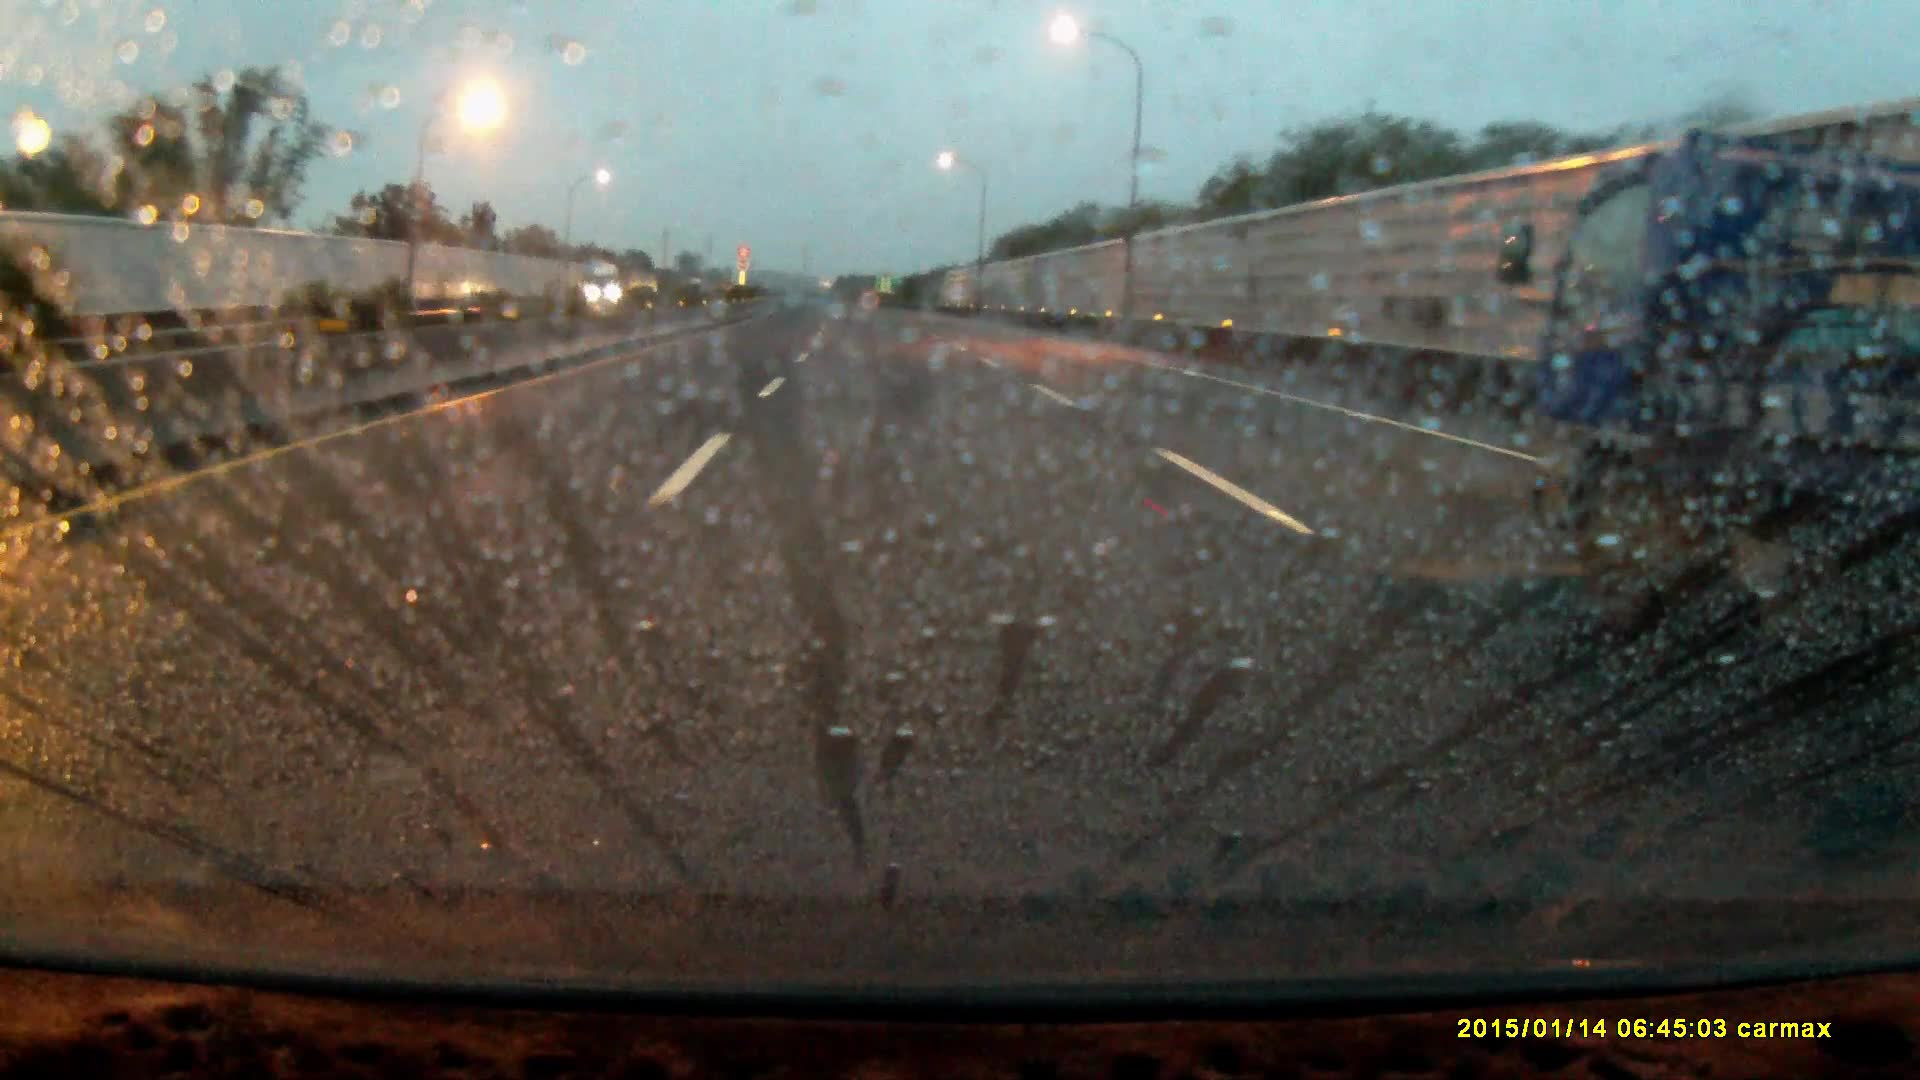vehicle: (1535, 146, 1920, 607), (588, 266, 630, 309)
